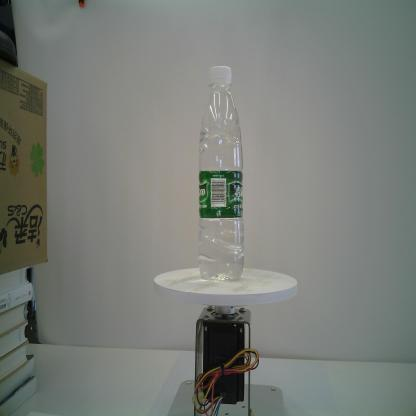Drink: (196, 63, 245, 282)
